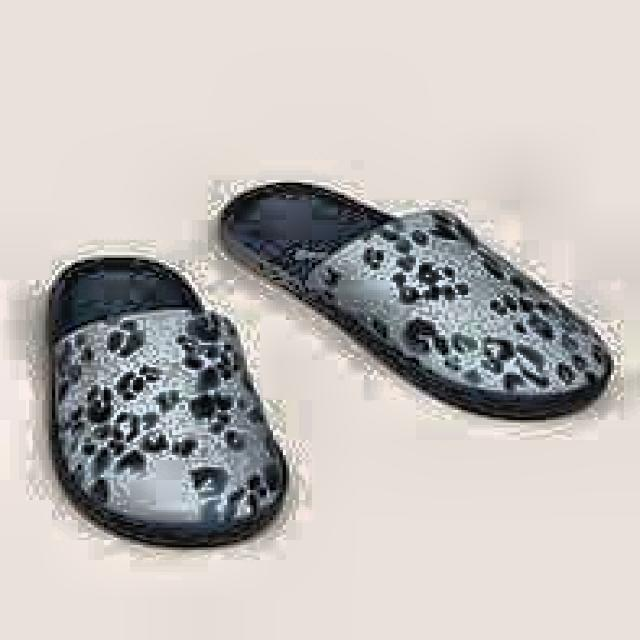shoes: (37, 176, 622, 549)
